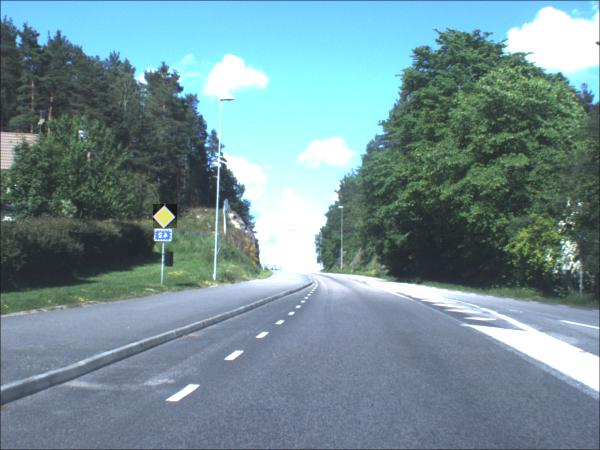PRIORITY_ROAD: (153, 205, 178, 230)
